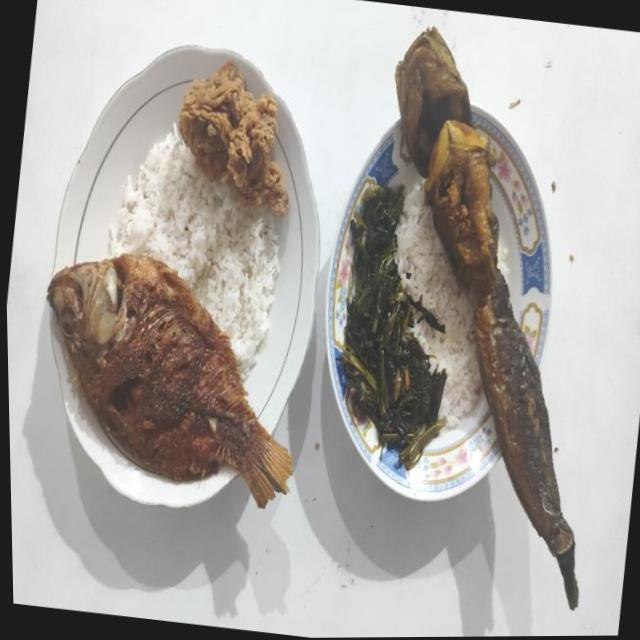ikan_mujair: (46, 253, 292, 508)
nasi_putih: (106, 123, 280, 380), (395, 184, 480, 427)
tumis_kangkung: (336, 179, 446, 469)
